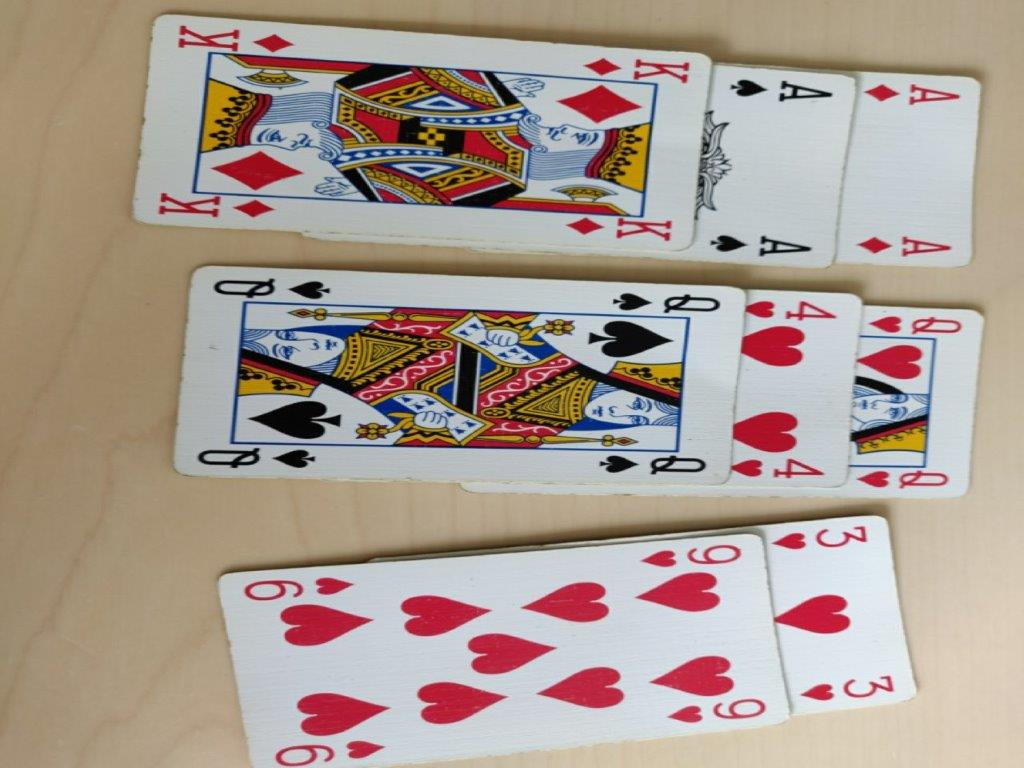3H: (777, 516, 899, 727)
4H: (734, 287, 866, 506)
9H: (239, 536, 766, 764)
AD: (849, 61, 985, 281)
AS: (702, 59, 842, 275)
KD: (152, 16, 693, 257)
QH: (858, 288, 984, 512)
QS: (184, 264, 728, 491)
